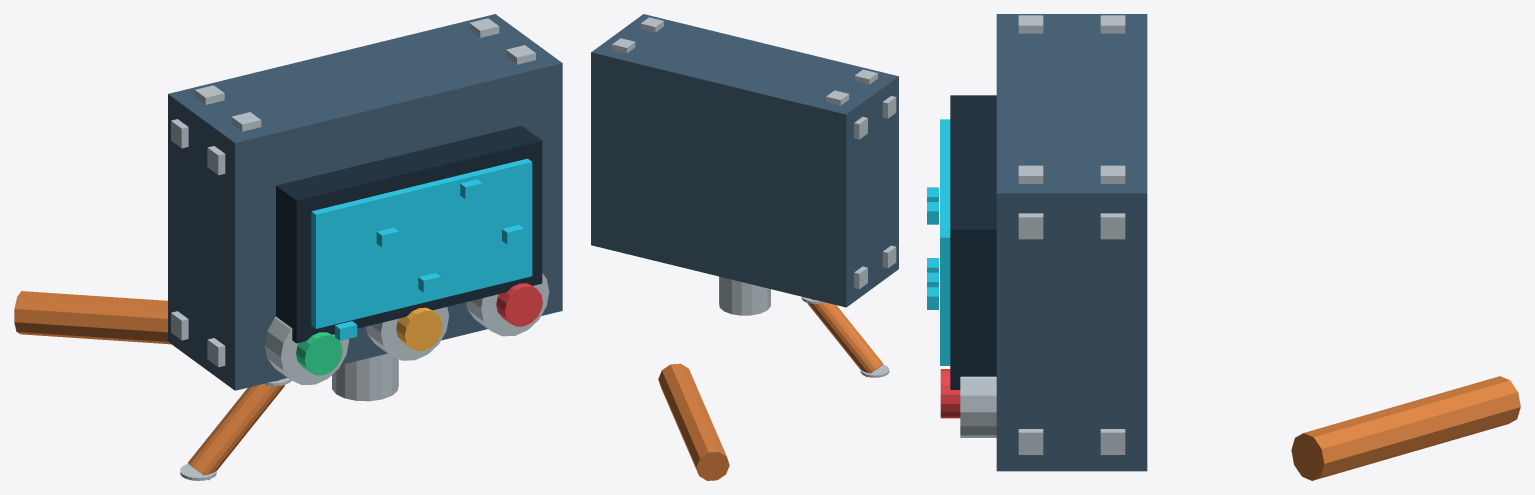
The model's file is 43_L77_WaferInterfaceTemperatureSensor.fbx.
3 views of the same model, side by side, from view 1: azimuth 30°, elevation 25°; view 2: azimuth 150°, elevation 25°; view 3: azimuth 270°, elevation 25° (orthographic). The views are drawn at different scales.
Parts seen in each view (by area): view 1: WaferInterfaceTemperatureSensor; view 2: WaferInterfaceTemperatureSensor; view 3: WaferInterfaceTemperatureSensor.
Boxes of the visible parts, x1=… form: WaferInterfaceTemperatureSensor: x1=14, y1=14, x2=562, y2=480; WaferInterfaceTemperatureSensor: x1=591, y1=14, x2=898, y2=480; WaferInterfaceTemperatureSensor: x1=927, y1=14, x2=1520, y2=480.
Size of the model in its own units: 46.61 by 46.45 by 60.42.
